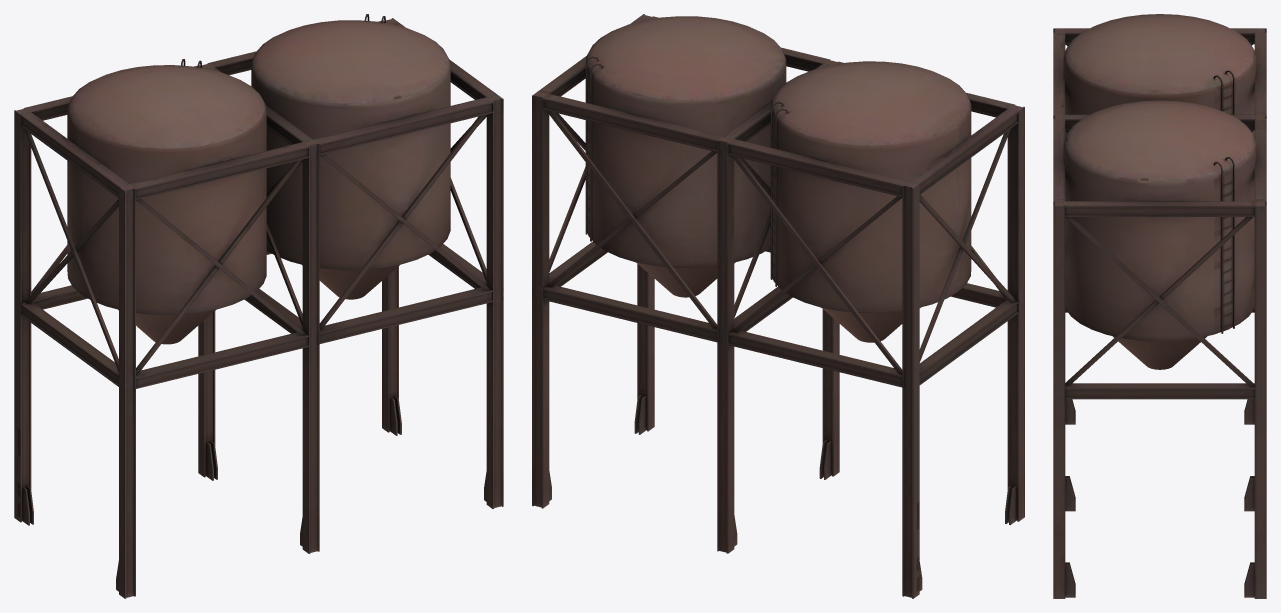
3 views of the same model, side by side, from view 1: azimuth 30°, elevation 25°; view 2: azimuth 150°, elevation 25°; view 3: azimuth 270°, elevation 25° (orthographic). The views are drawn at different scales.
Visible parts, largest first — view 1: body0_model0_lod0_mesh0; view 2: body0_model0_lod0_mesh0; view 3: body0_model0_lod0_mesh0.
Boxes of the visible parts, x1,y1,x2,y2 form: body0_model0_lod0_mesh0: (14,14,503,598); body0_model0_lod0_mesh0: (532,14,1024,598); body0_model0_lod0_mesh0: (1053,14,1266,598).
Size of the model in its own units: 560 by 625 by 284.
1 material, 1 textured.
